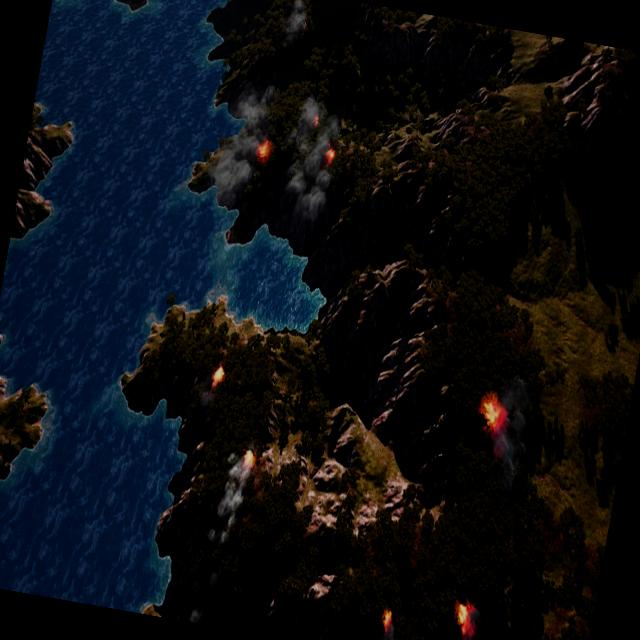fire: (476, 392, 508, 434), (450, 602, 473, 636), (255, 138, 273, 164), (380, 604, 394, 632), (321, 143, 336, 166), (210, 364, 224, 388)
smoke: (206, 72, 280, 212), (278, 90, 347, 226), (481, 374, 546, 509), (200, 448, 258, 552), (281, 0, 312, 50), (456, 609, 494, 640)
